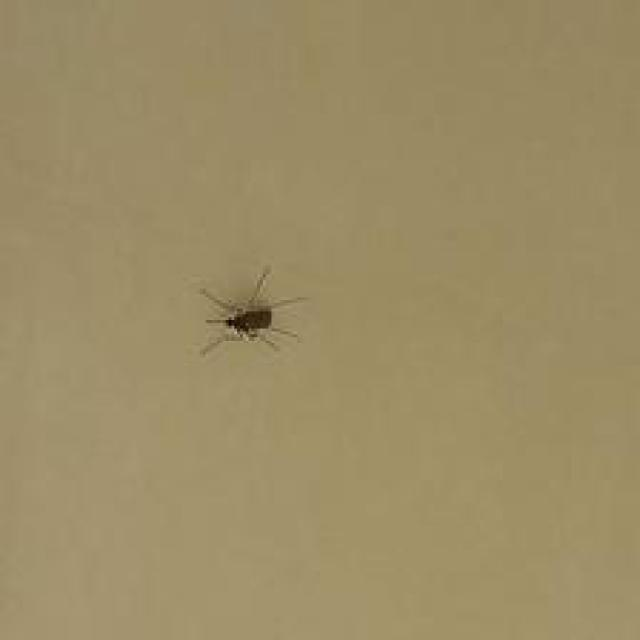Culex: (196, 264, 307, 359)
